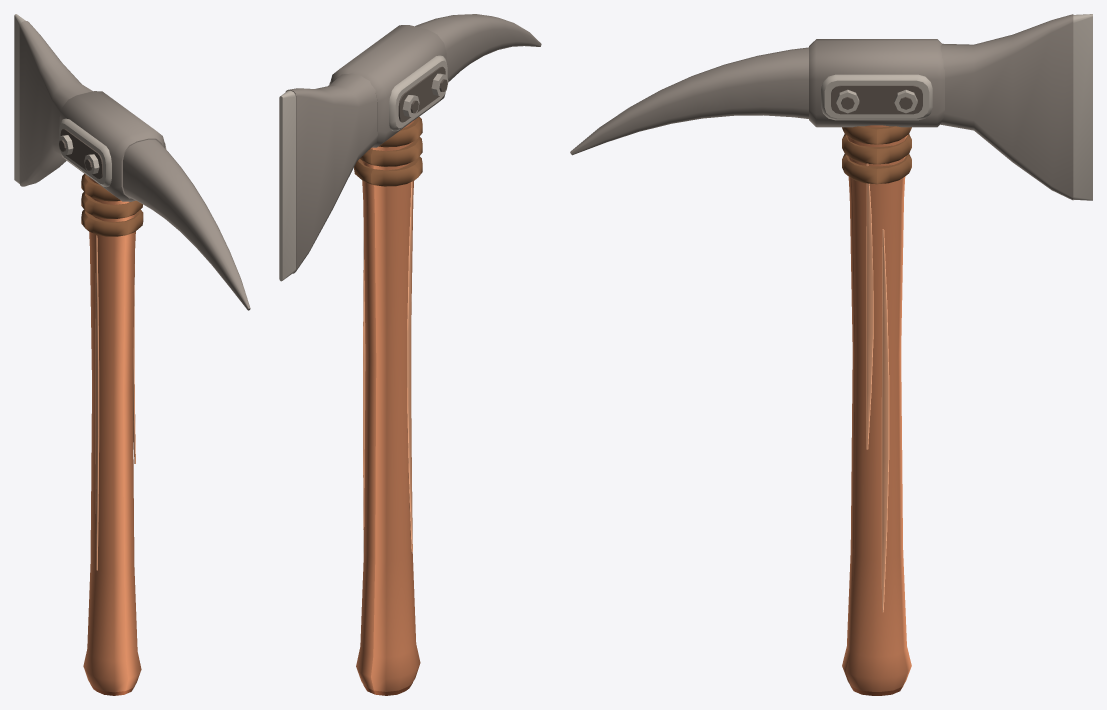
File: pioche_hache_pierre.glb
The picture shows the model from 3 angles, left to right: view 1: azimuth 30°, elevation 25°; view 2: azimuth 150°, elevation 25°; view 3: azimuth 270°, elevation 25°; orthographic projection. The views are drawn at different scales.
Parts seen in each view (by area): view 1: manche, lame, pic, oeil, bague; view 2: manche, lame, oeil, pic, bague; view 3: manche, lame, oeil, pic, bague.
Boxes of the visible parts, <box> form: manche: <box>83,176,141,695</box>; lame: <box>14,14,92,186</box>; pic: <box>123,139,250,310</box>; oeil: <box>58,91,166,201</box>; bague: <box>81,174,143,236</box>; manche: <box>356,120,420,695</box>; lame: <box>279,73,377,281</box>; oeil: <box>329,25,448,147</box>; pic: <box>415,14,541,81</box>; bague: <box>354,117,422,186</box>; manche: <box>842,125,911,695</box>; lame: <box>940,14,1092,200</box>; oeil: <box>809,39,944,127</box>; pic: <box>570,47,808,155</box>; bague: <box>842,126,911,184</box>.
Bounding box in the file's own units: 0.1 × 0.7645 × 0.5386.
